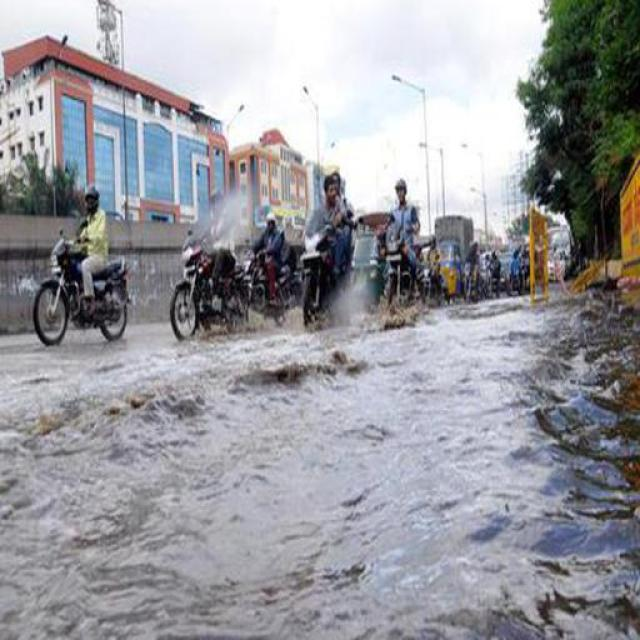puddle: (14, 384, 580, 640), (328, 316, 547, 450)
